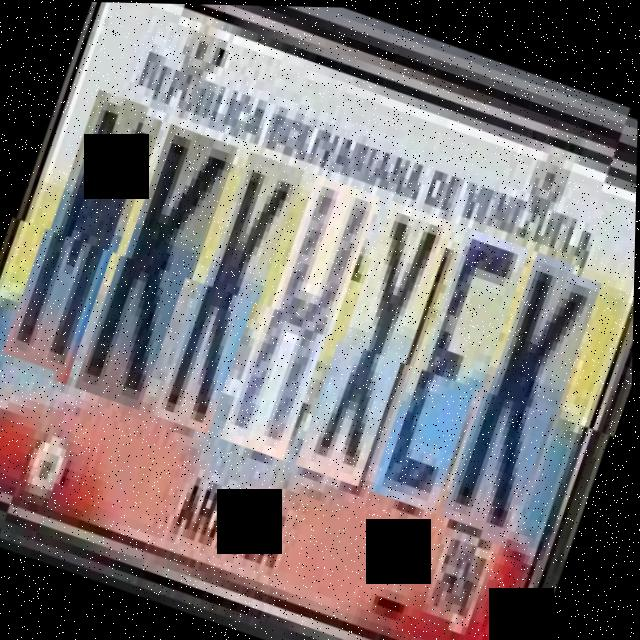E: (376, 223, 531, 514)
H: (226, 172, 381, 462)
K: (447, 248, 606, 540), (80, 122, 238, 413), (158, 149, 305, 436)
M: (5, 96, 164, 387)
X: (301, 197, 456, 488)
